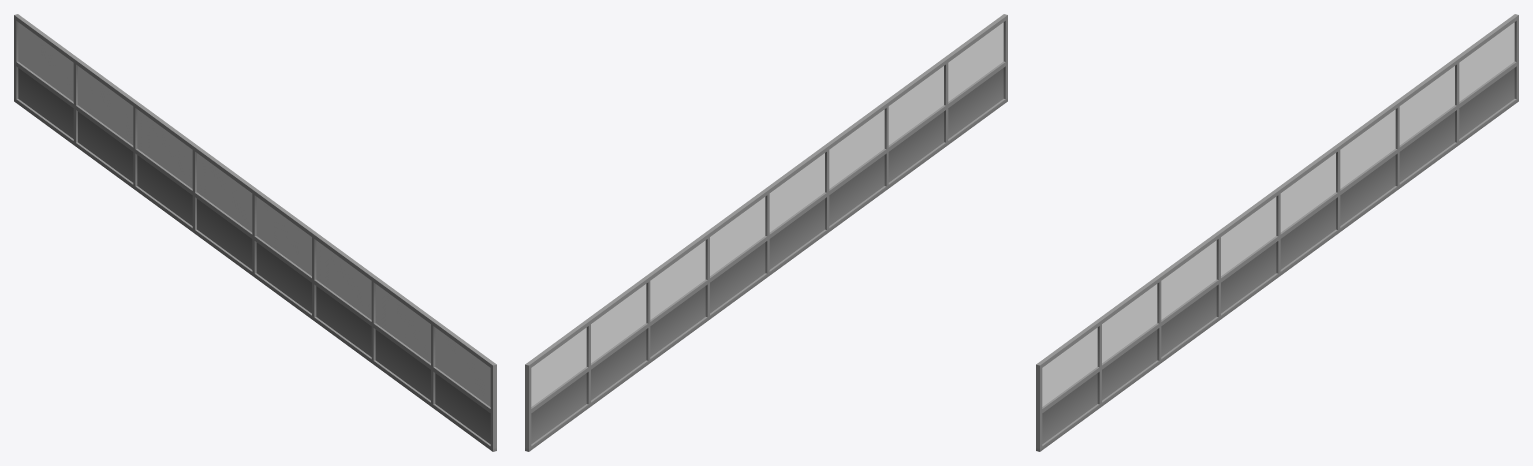
The model's file is AMB_HOME_DOOR.glb.
3 renders of one model, left to right at view 1: azimuth 30°, elevation 25°; view 2: azimuth 150°, elevation 25°; view 3: azimuth 330°, elevation 25°, orthographic.
Visible parts, largest first — view 1: obj1; view 2: obj1; view 3: obj1.
Boxes of the visible parts, x1,y1,x2,y2 form: obj1: (14,14,496,451); obj1: (525,14,1007,451); obj1: (1036,14,1518,451).
Bounding box in the file's own units: 0.2438 × 5 × 50.24.
Materials: 2 (2 with a texture image).
